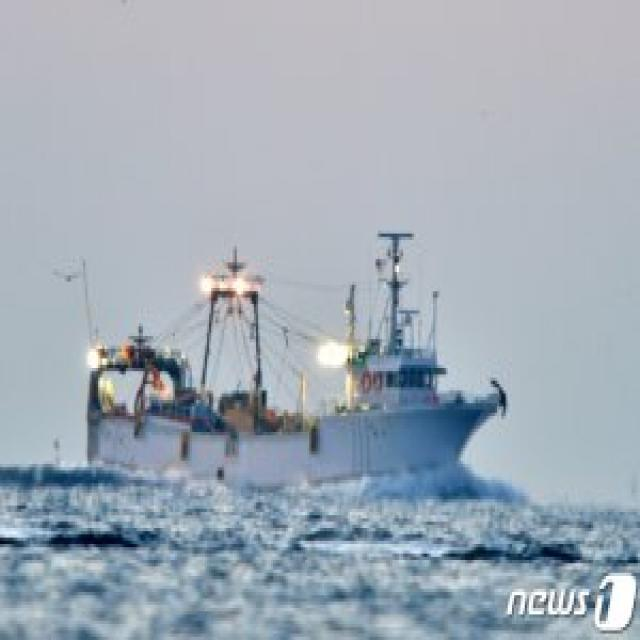Ship: (65, 203, 513, 510)
